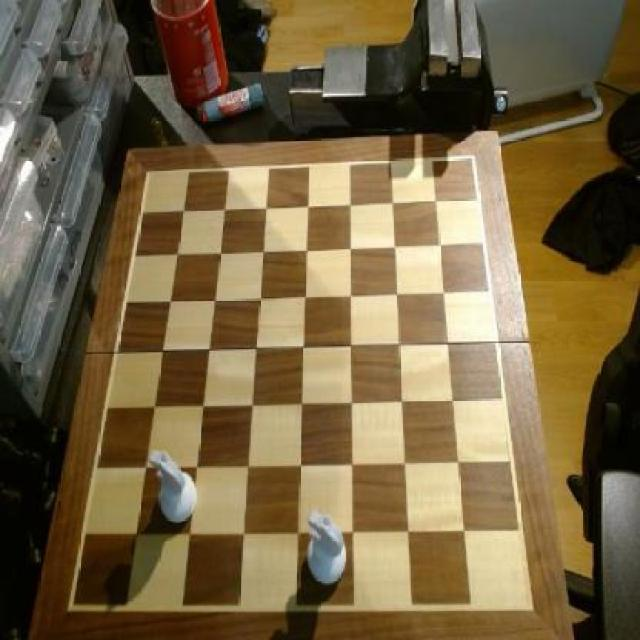white-king: (303, 508, 351, 588), (151, 448, 198, 528)
